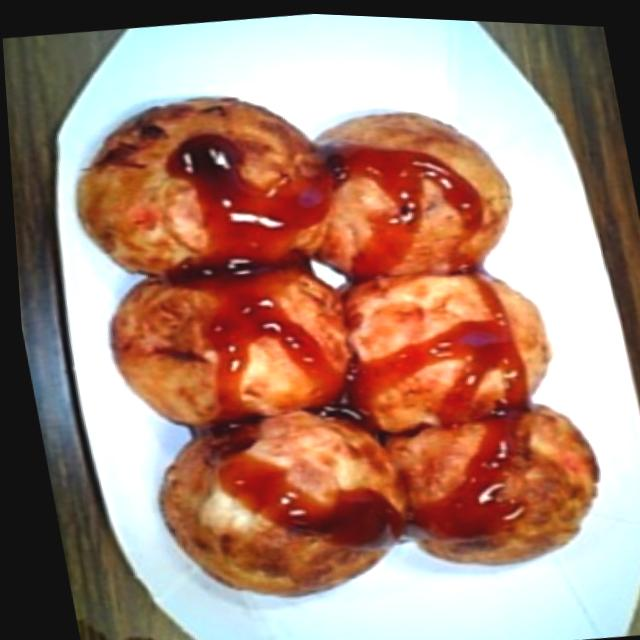炸货点心: (54, 42, 612, 637)
